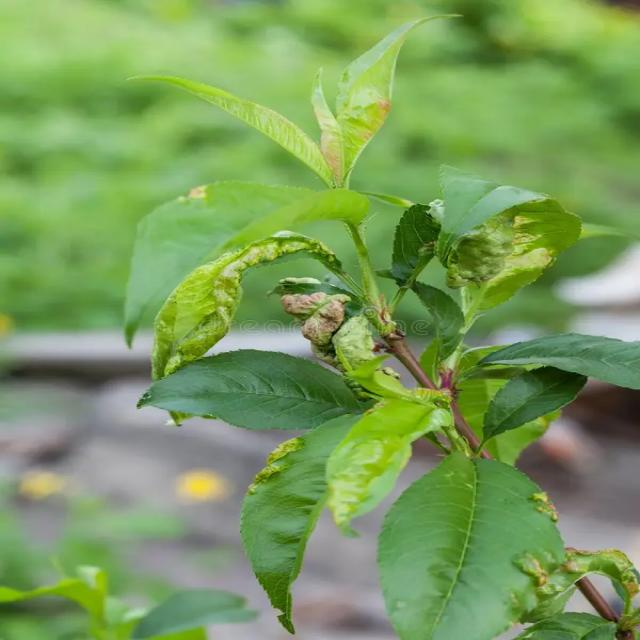peach_leaf_curl: (120, 205, 638, 637)
